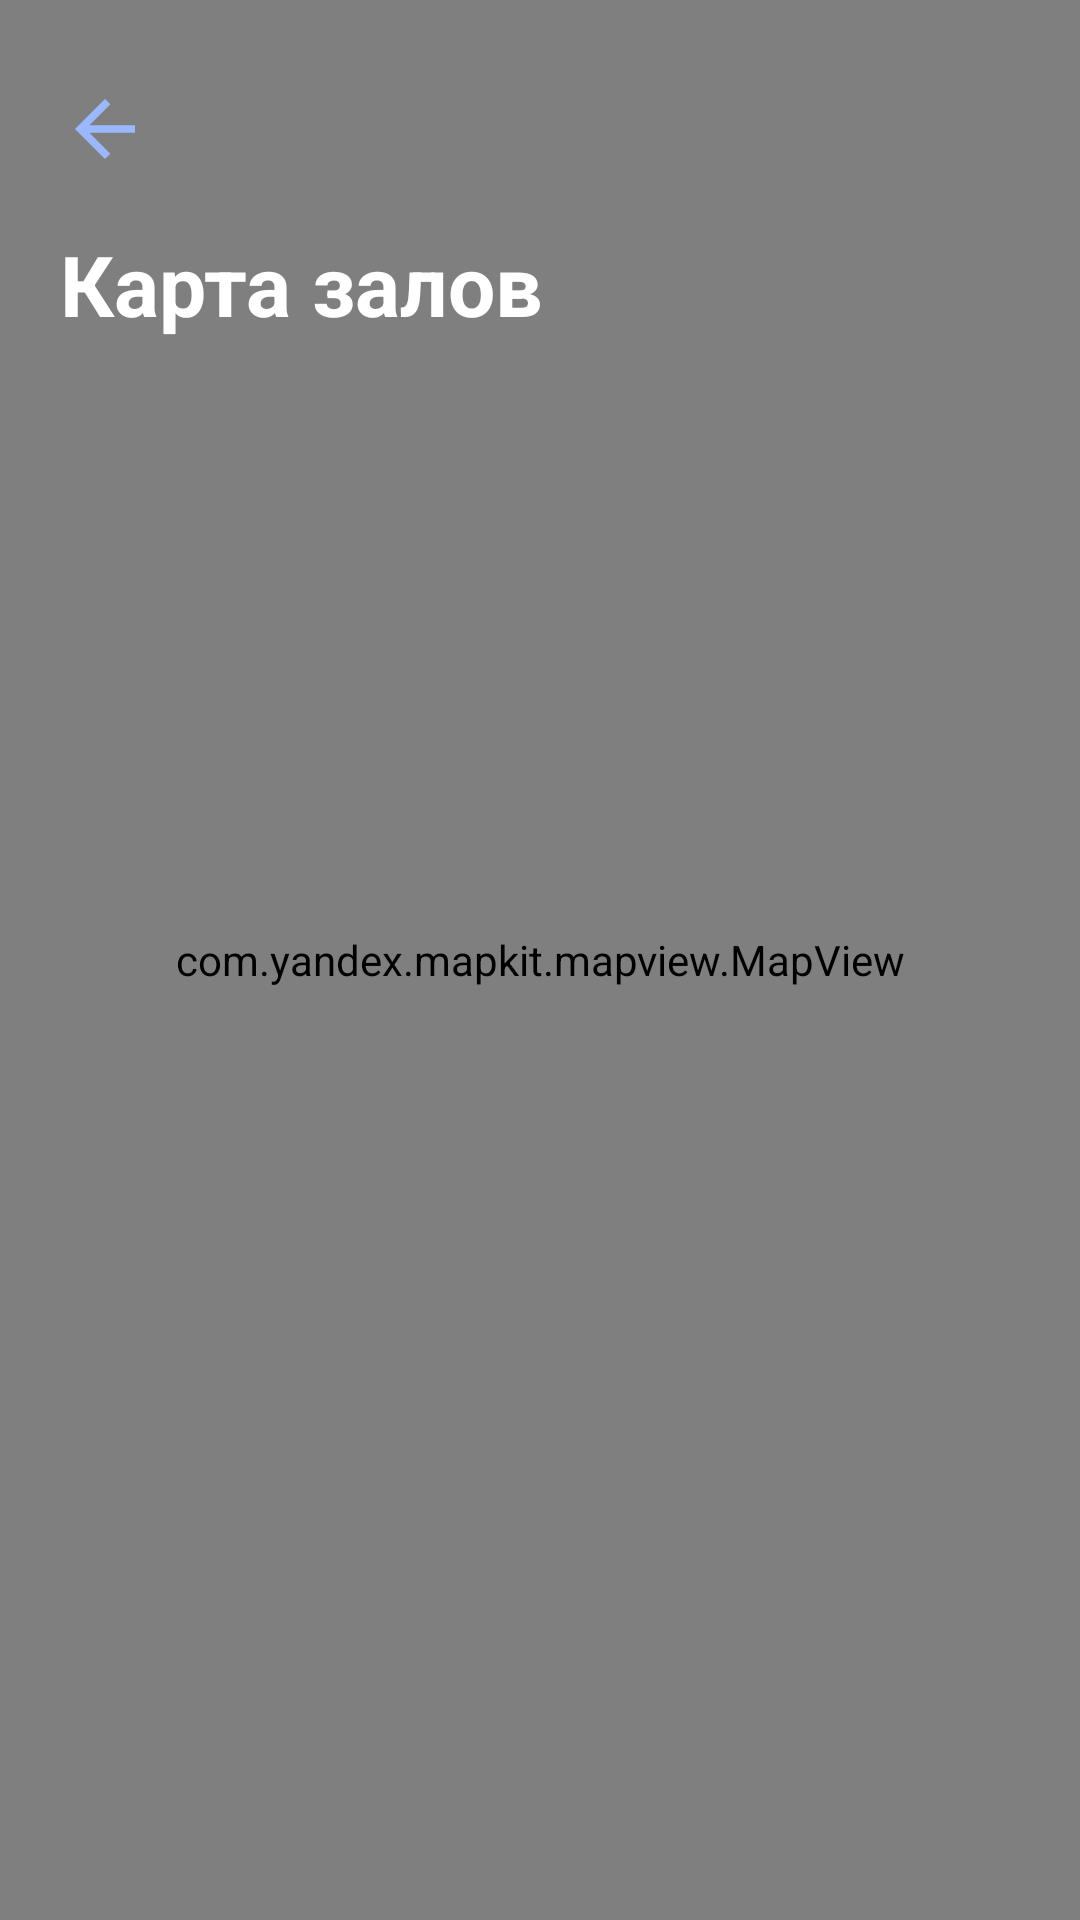

Screen size 1080px×1920px. Icon name, then its box in pixels as (x1, y1, x2, y2):
arrow back: (75, 99, 135, 159)
